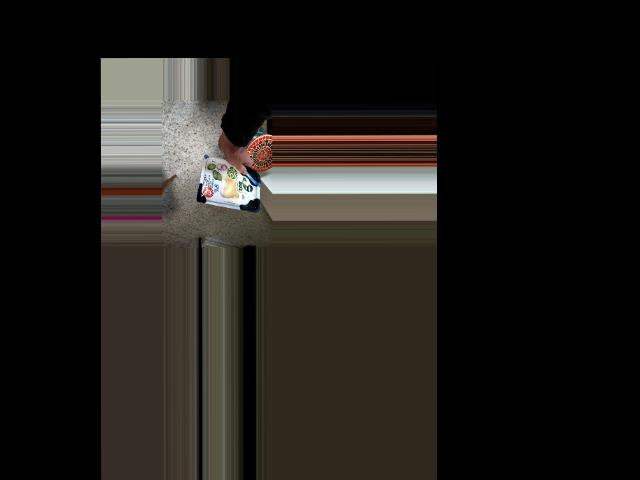cheese: (202, 146, 250, 195)
